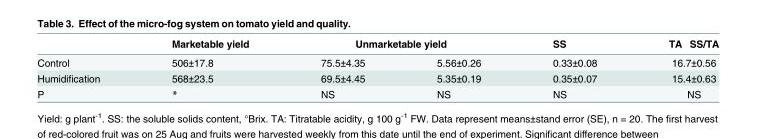table: (36, 37, 718, 99)
table column: (135, 37, 284, 99), (284, 37, 400, 99), (400, 37, 516, 99), (516, 37, 632, 99), (36, 37, 135, 99), (632, 37, 685, 99), (685, 37, 718, 99)
table column header: (36, 37, 718, 70)
table row: (36, 52, 718, 70), (36, 37, 718, 52), (36, 70, 718, 85), (36, 85, 718, 99)
table spanning cell: (135, 37, 284, 70), (516, 37, 632, 70), (284, 37, 516, 52), (36, 37, 135, 70), (632, 52, 718, 70), (632, 70, 718, 85), (632, 85, 718, 99)
